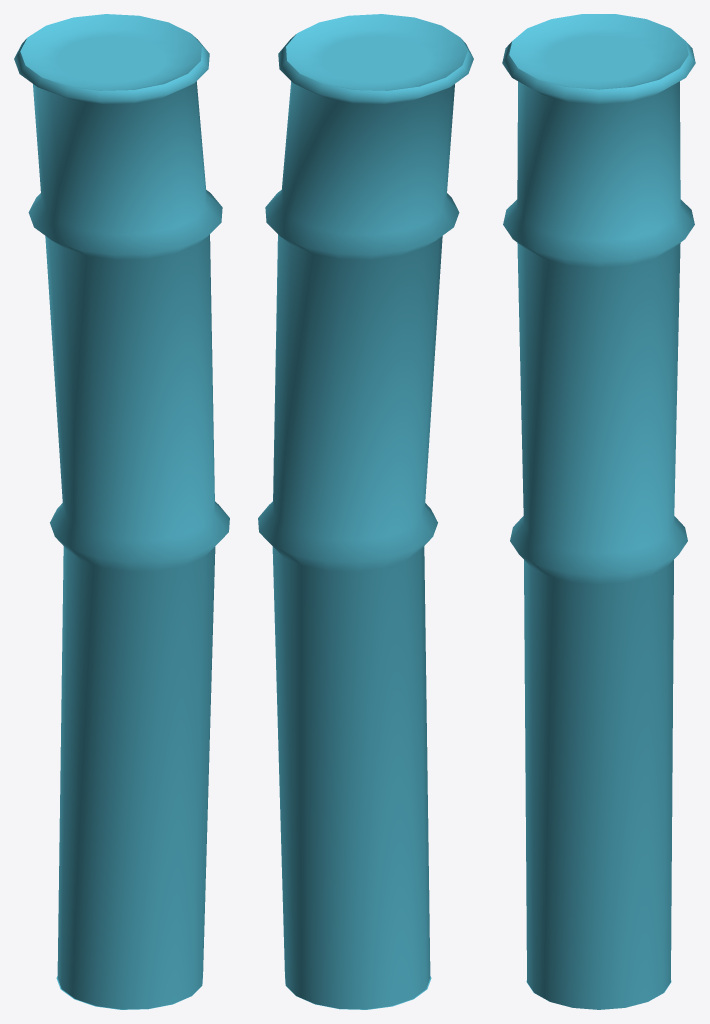
File: Bambus.fbx
The picture shows the model from 3 angles, left to right: view 1: azimuth 30°, elevation 25°; view 2: azimuth 150°, elevation 25°; view 3: azimuth 270°, elevation 25°; orthographic projection.
Parts seen in each view (by area): view 1: Cylinder007; view 2: Cylinder007; view 3: Cylinder007.
Boxes of the visible parts, x1,y1,x2,y2 form: Cylinder007: (14, 14, 229, 1009); Cylinder007: (258, 14, 473, 1009); Cylinder007: (502, 14, 695, 1009).
Size of the model in its own units: 22.28 by 104 by 19.88.
